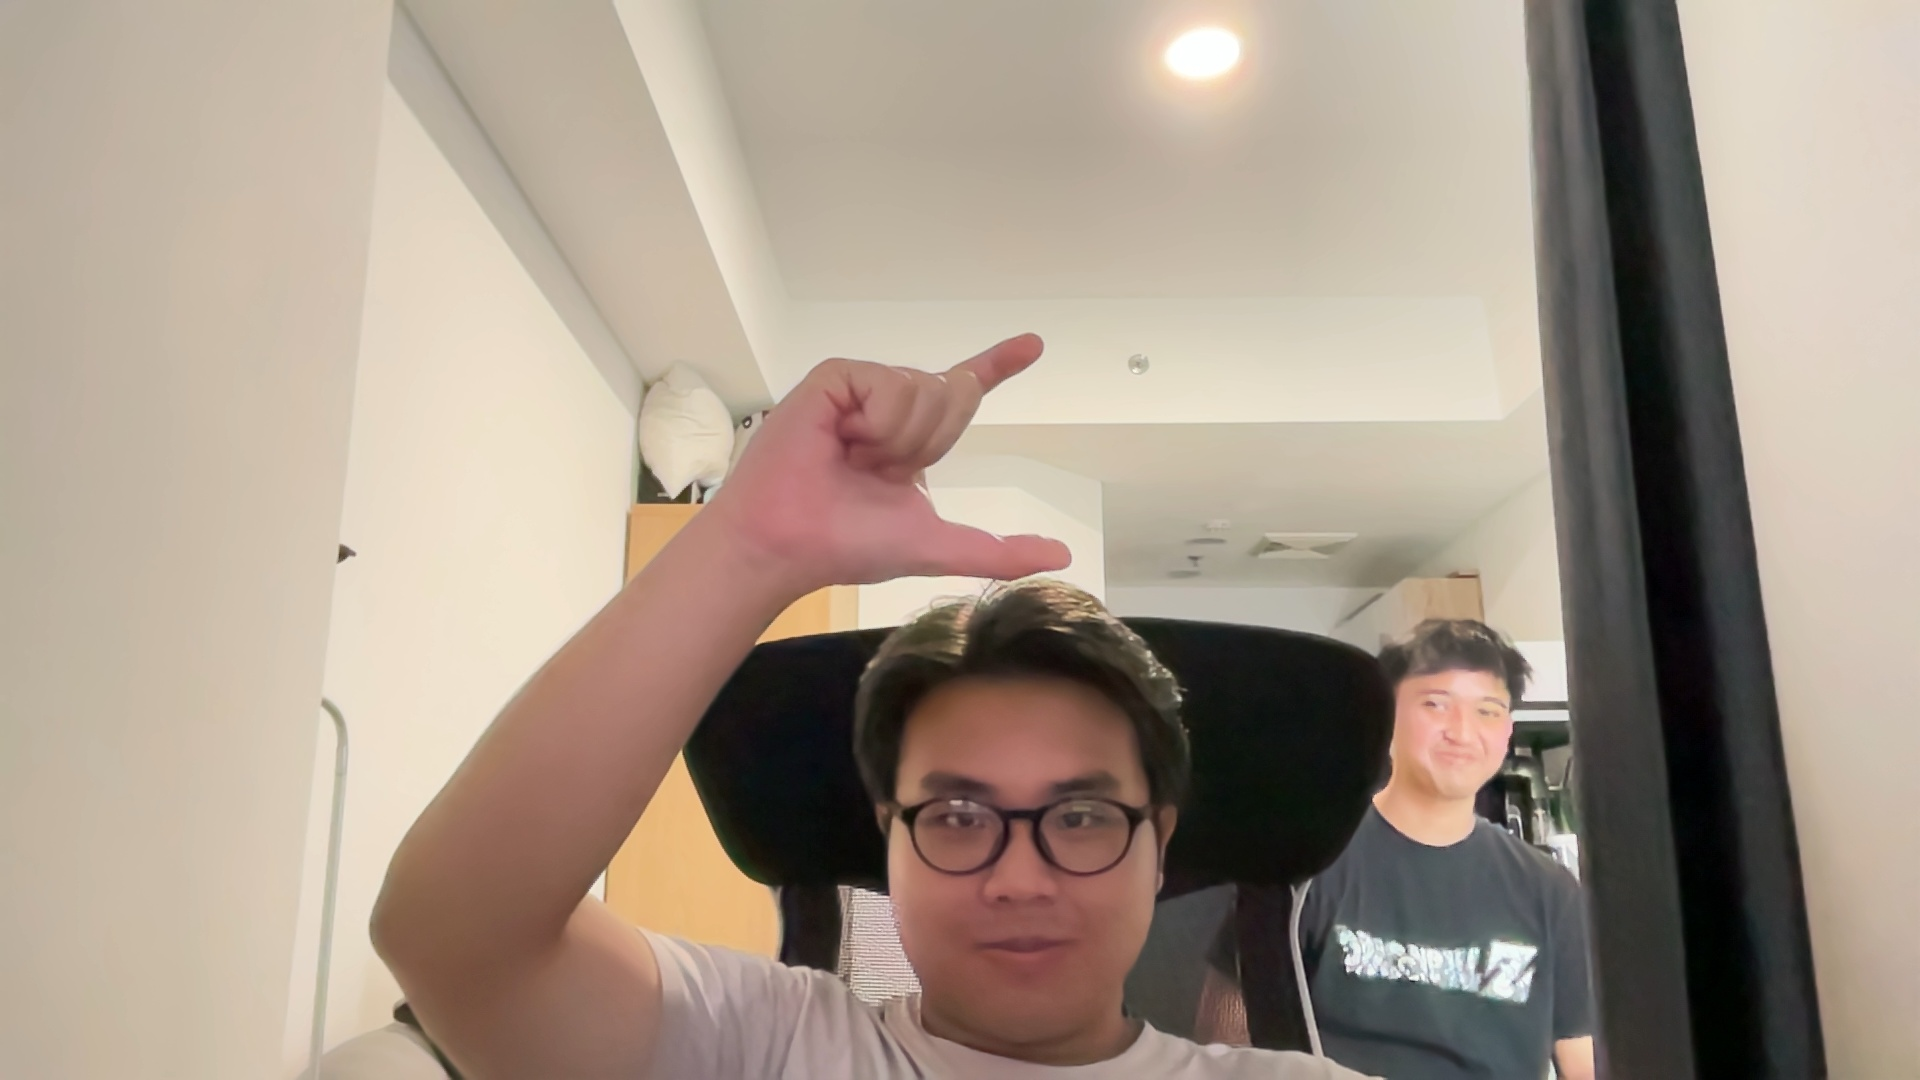c: (723, 307, 1135, 605)
